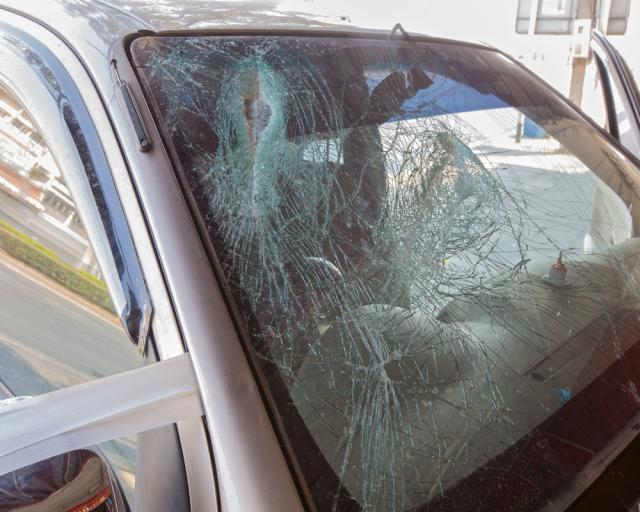glass shatter: (133, 31, 640, 512)
